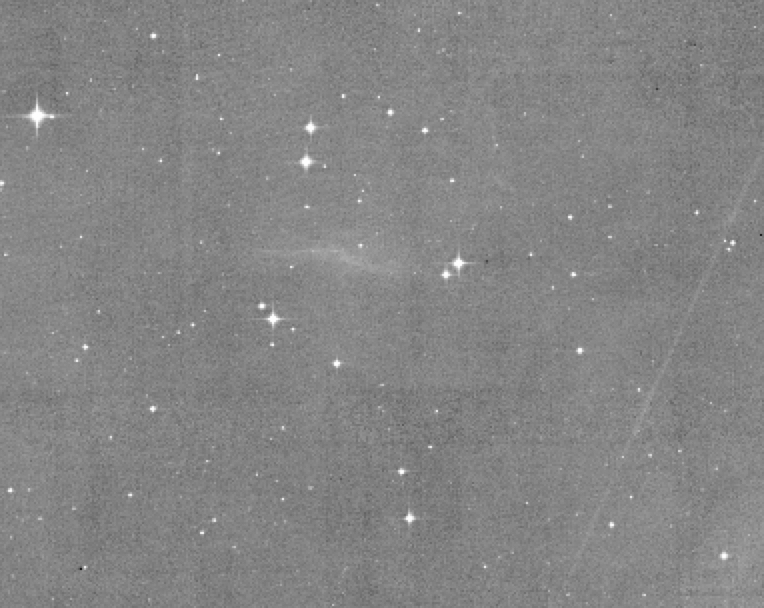Halpha: (245, 218, 434, 311)
